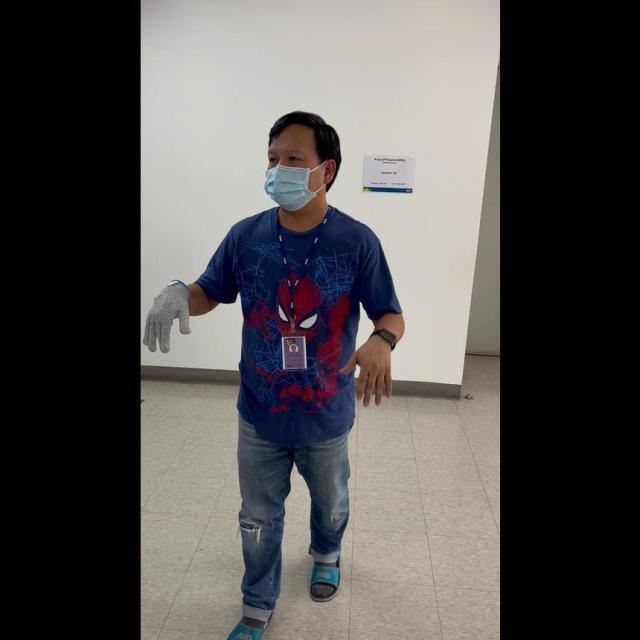bare_hand: (347, 331, 396, 408)
gloved_hand: (143, 275, 192, 355)
